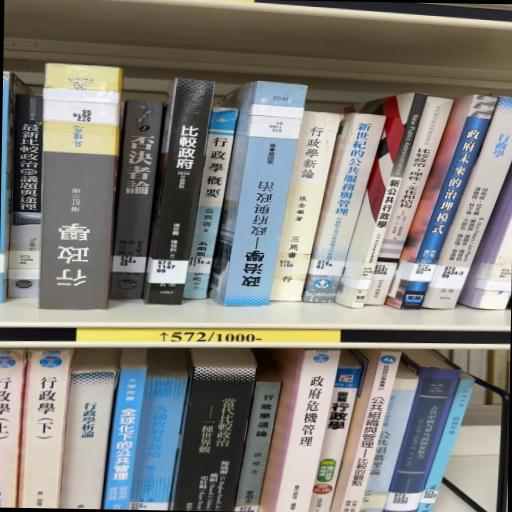reverse: (208, 81, 307, 306), (38, 63, 122, 310)
